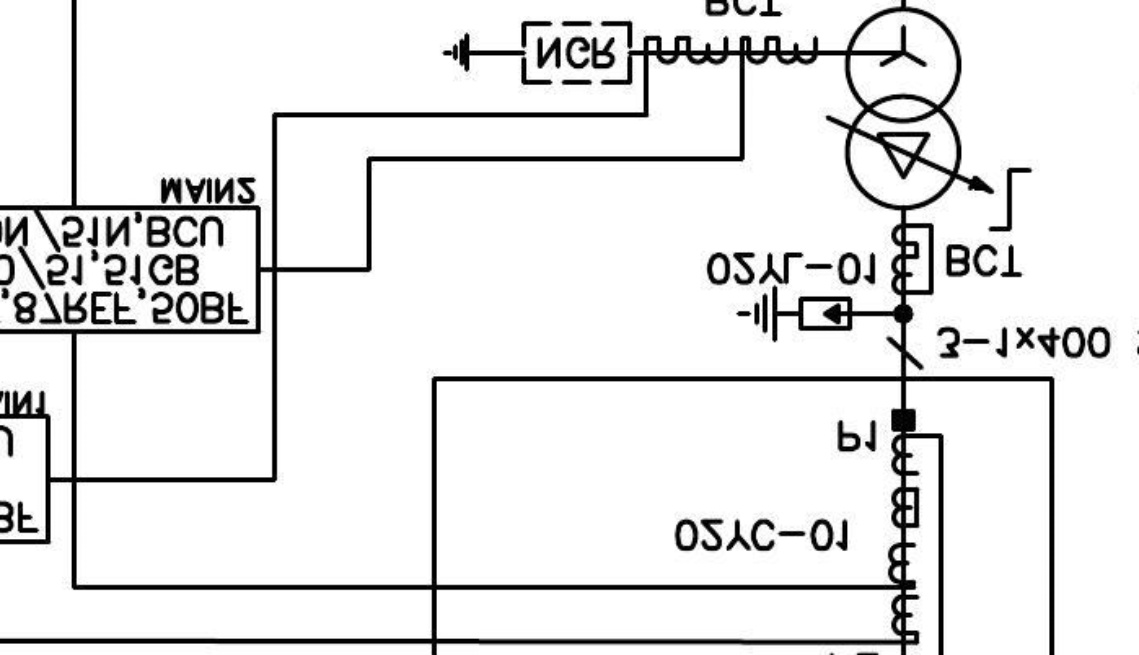11522_tx_dyn1: (844, 5, 963, 211)
115_la: (734, 283, 854, 344)
NGR_future: (441, 20, 633, 86)
